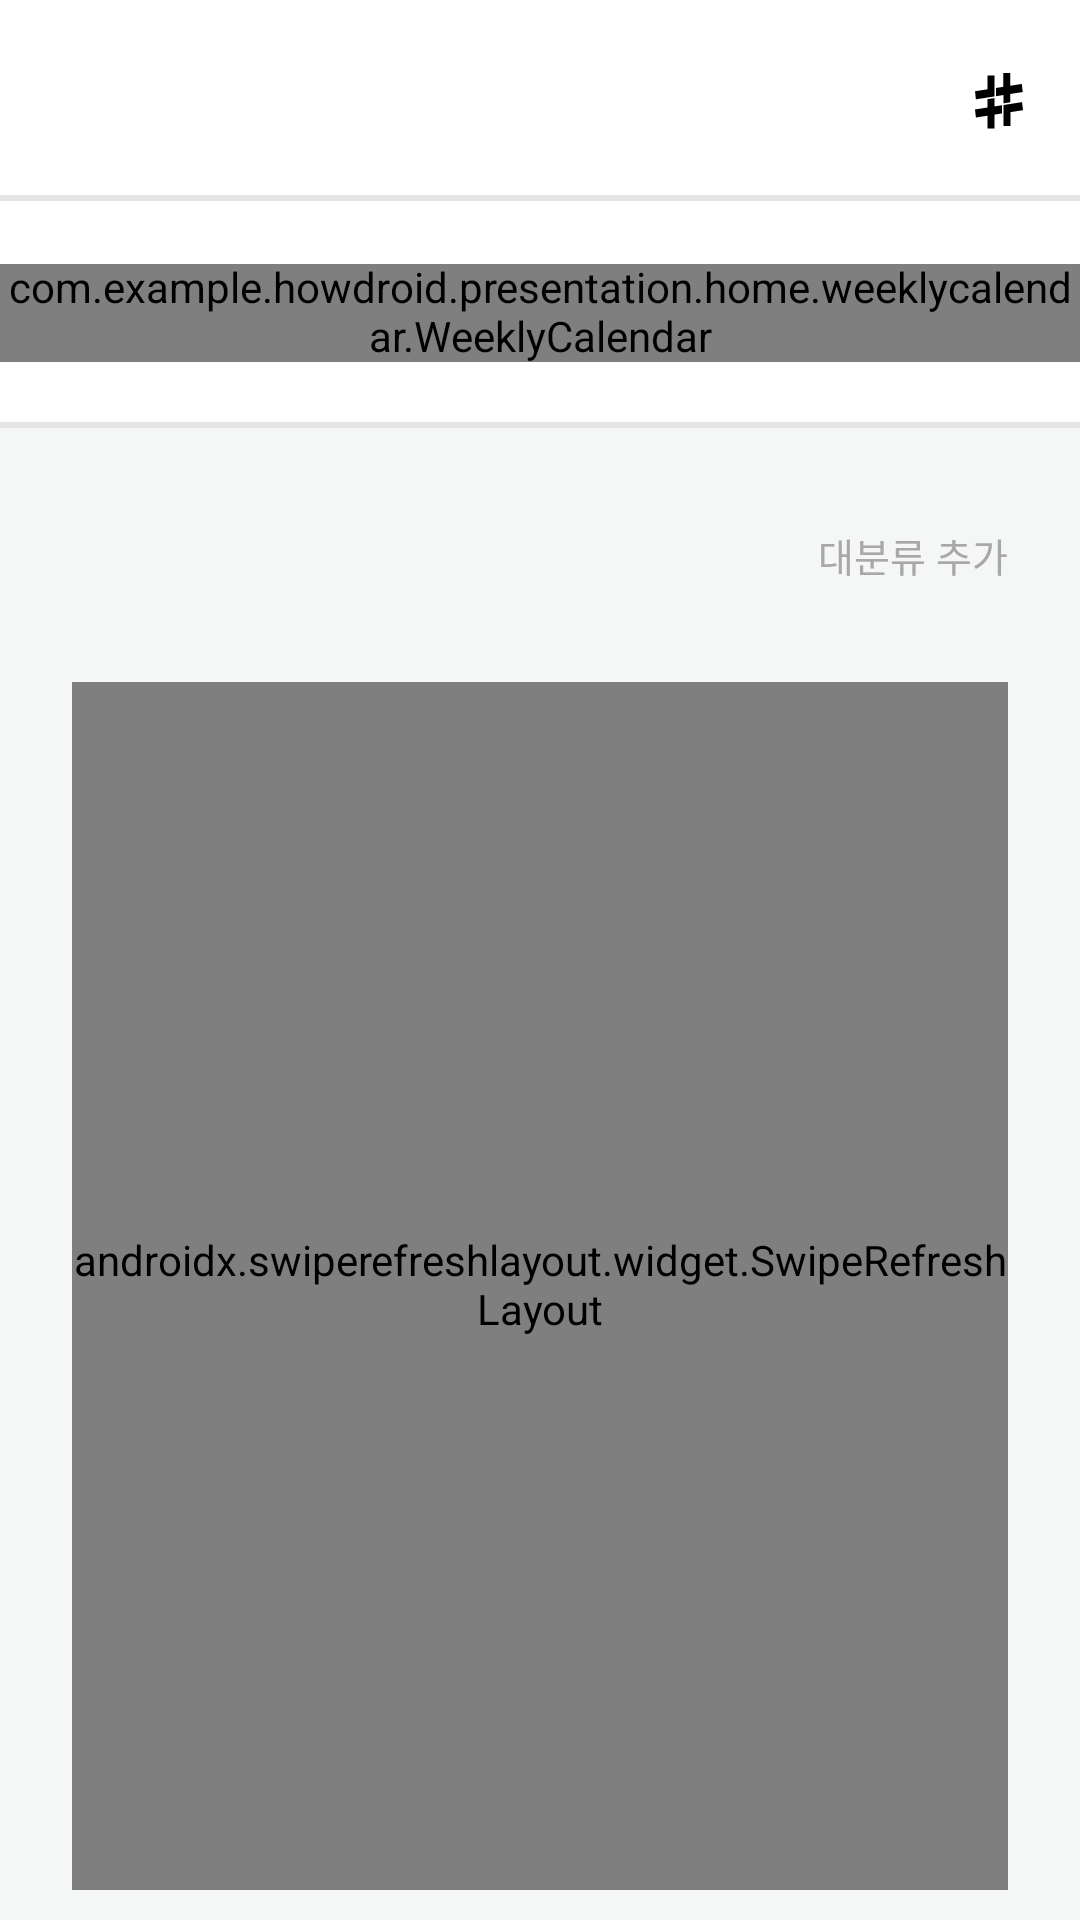

Where icons sit on this 1080 × 1920 app screen, as (x1, y1, x2, y2):
make failtag: (975, 73, 1023, 129)
